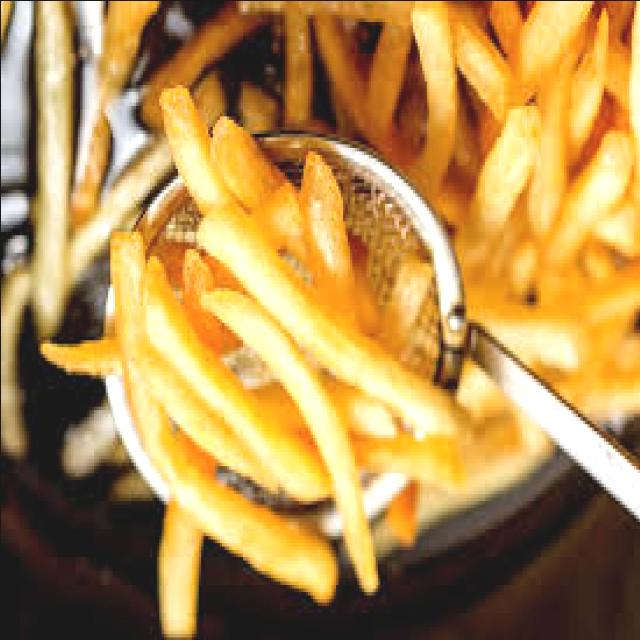kentang goreng: (195, 206, 458, 434)
